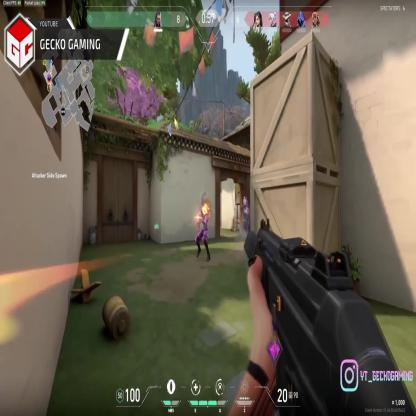enemy: (196, 201, 210, 261), (240, 197, 252, 253)
enemy_head: (201, 203, 206, 216), (243, 198, 246, 206)
